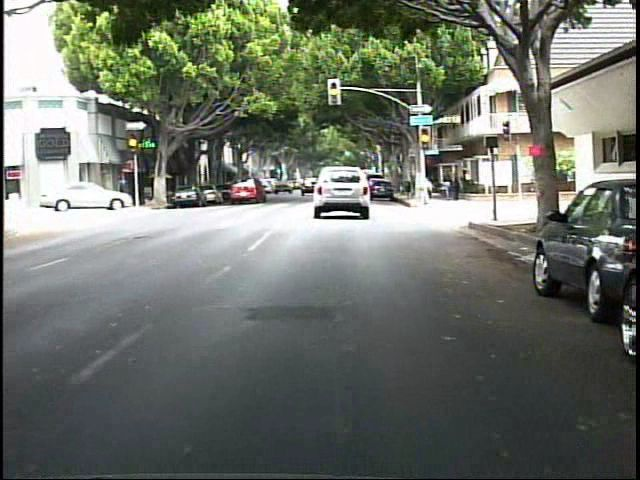person: (414, 171, 435, 210), (450, 168, 463, 204), (441, 169, 455, 202), (459, 163, 472, 196)
